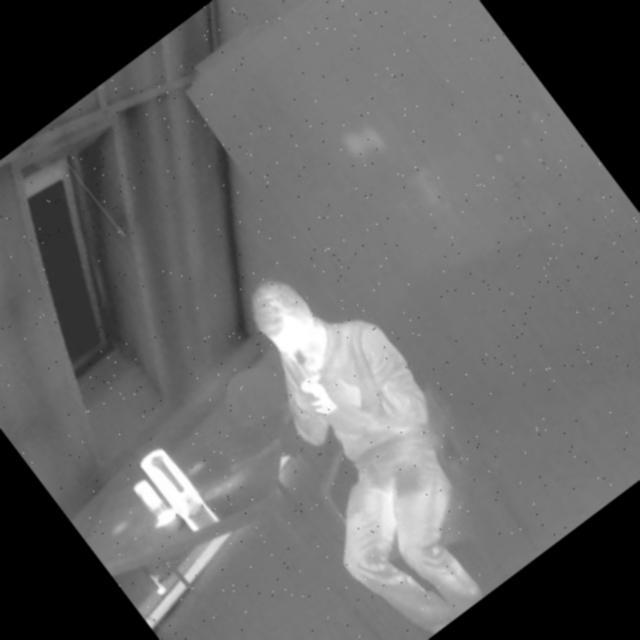person: (174, 244, 549, 640)
